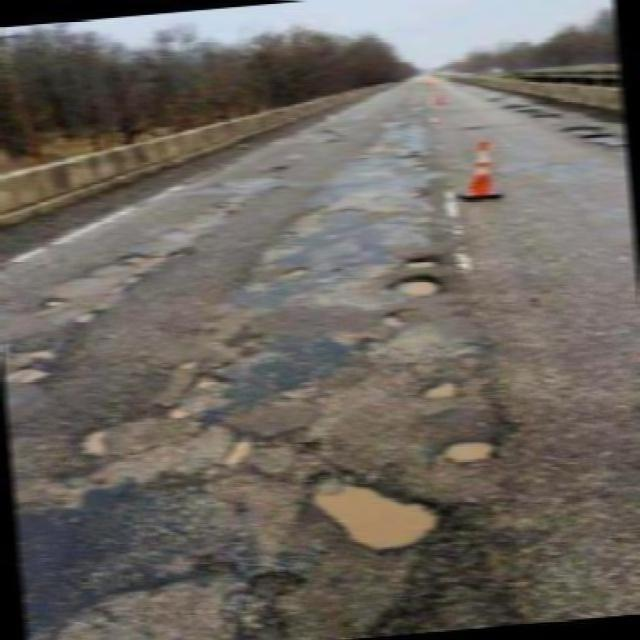Pothole: (296, 467, 463, 561), (306, 180, 442, 223), (438, 433, 512, 468), (200, 427, 256, 473), (380, 268, 446, 304), (558, 124, 628, 155), (68, 419, 123, 458), (0, 361, 58, 394), (411, 376, 471, 406), (193, 197, 248, 224), (496, 100, 567, 120), (111, 248, 160, 270), (186, 367, 230, 390), (0, 348, 75, 359), (395, 254, 448, 268), (376, 308, 406, 332), (67, 312, 113, 326), (316, 126, 348, 146), (160, 403, 191, 422), (161, 250, 200, 265), (284, 265, 315, 283), (357, 338, 383, 356), (270, 158, 293, 176), (393, 148, 425, 159), (37, 298, 71, 306), (487, 96, 504, 102)
